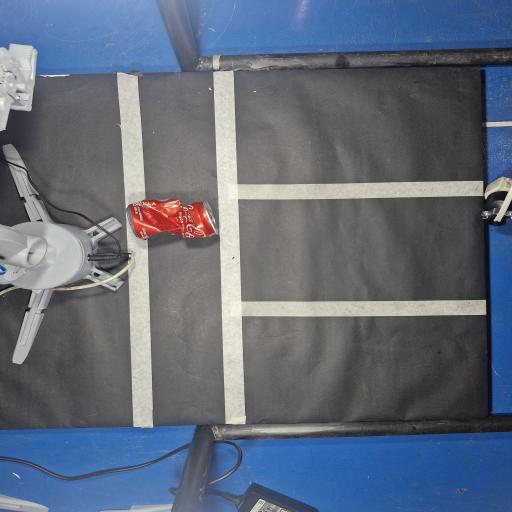lata_defectuoso: (127, 199, 218, 239)
